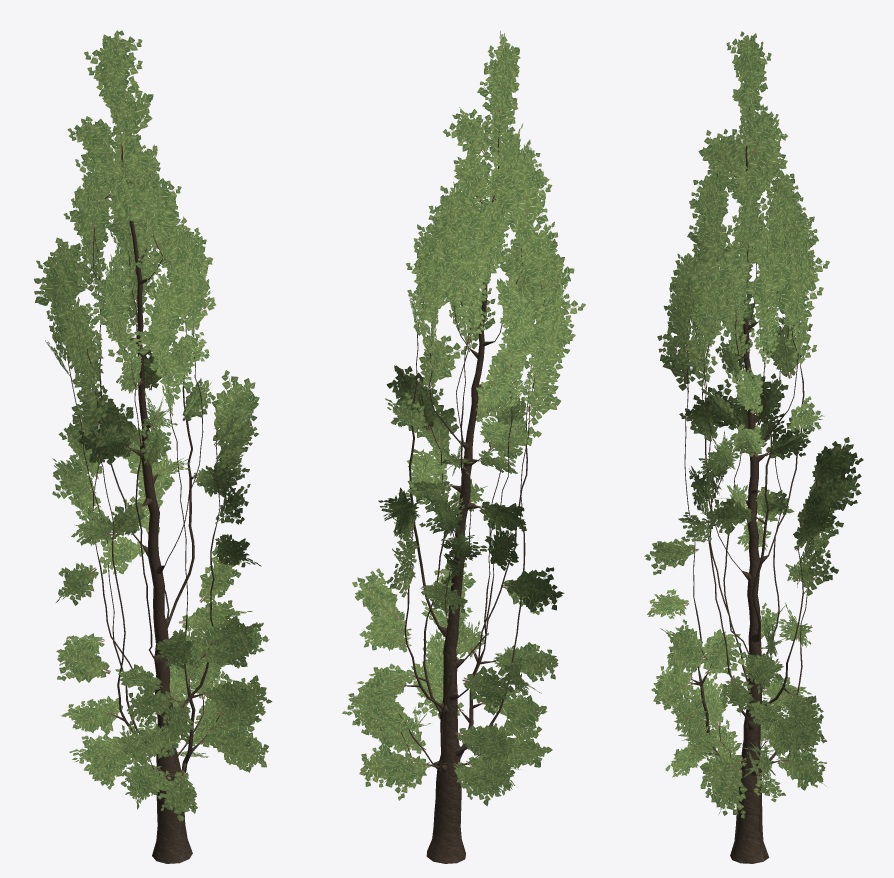
Rendered from Scenery_Poplar_V2.fbx.
3 renders of one model, left to right at view 1: azimuth 30°, elevation 25°; view 2: azimuth 150°, elevation 25°; view 3: azimuth 270°, elevation 25°, orthographic. The views are drawn at different scales.
Parts seen in each view (by area): view 1: Scenery_Poplar_V2_LOD0; view 2: Scenery_Poplar_V2_LOD0; view 3: Scenery_Poplar_V2_LOD0.
Part boxes in pixels (bbox=[...]): Scenery_Poplar_V2_LOD0: bbox=[34, 30, 272, 863]; Scenery_Poplar_V2_LOD0: bbox=[342, 30, 585, 863]; Scenery_Poplar_V2_LOD0: bbox=[644, 31, 863, 863].
Size of what is drawn, in the model's own units: 6.83 by 22.53 by 6.34.
